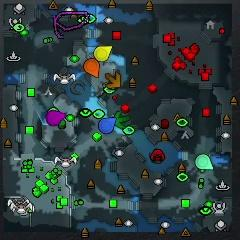p1: (98, 117, 116, 134)
p2: (196, 154, 213, 170)
p3: (47, 111, 66, 127)
p4: (94, 46, 112, 61)
p5: (84, 59, 100, 78)
x4: (115, 111, 129, 128)
x5: (106, 72, 121, 89)
